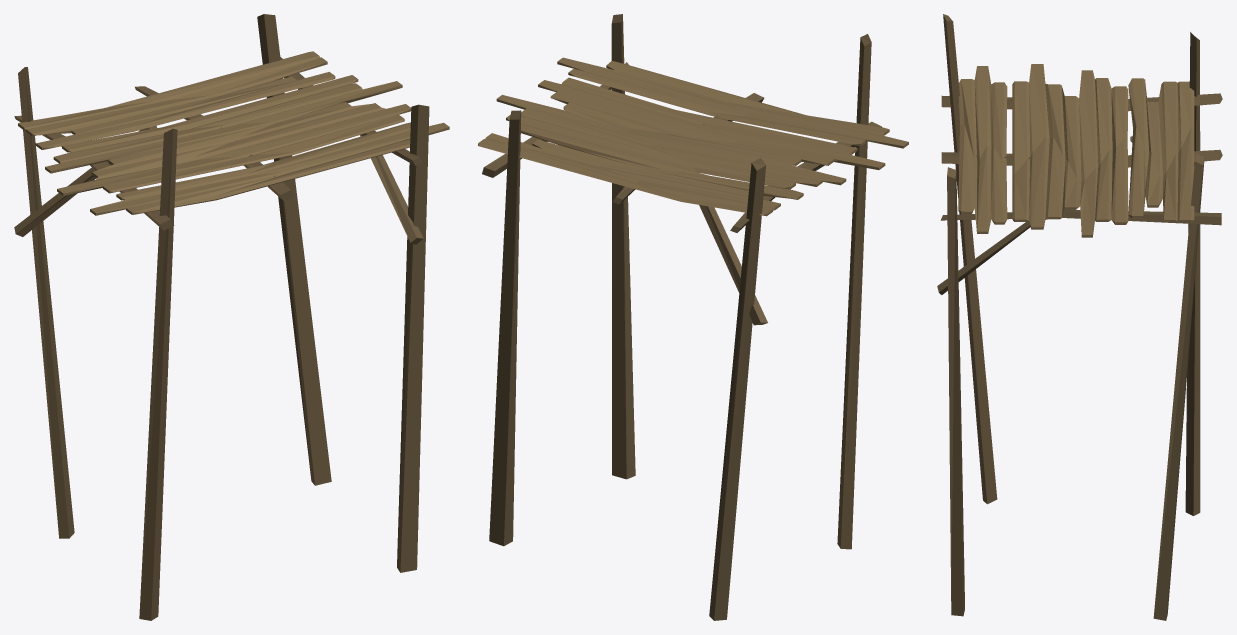
The model's file is SM_Bld_Rickety_Dock_Platform_02.glb.
3 views of the same model, side by side, from view 1: azimuth 30°, elevation 25°; view 2: azimuth 150°, elevation 25°; view 3: azimuth 270°, elevation 25° (orthographic). The views are drawn at different scales.
Visible parts, largest first — view 1: SM_Bld_Rickety_Dock_Platform_02_part00; view 2: SM_Bld_Rickety_Dock_Platform_02_part00; view 3: SM_Bld_Rickety_Dock_Platform_02_part00.
Part boxes in pixels (x1,y1,x2,y2): SM_Bld_Rickety_Dock_Platform_02_part00: (14,14,449,620); SM_Bld_Rickety_Dock_Platform_02_part00: (478,14,908,620); SM_Bld_Rickety_Dock_Platform_02_part00: (937,14,1222,620).
Size of the model in its own units: 6.52 by 8.66 by 4.59.
1 material, 1 textured.
